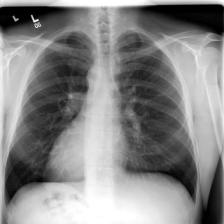normal: (3, 27, 201, 208)
